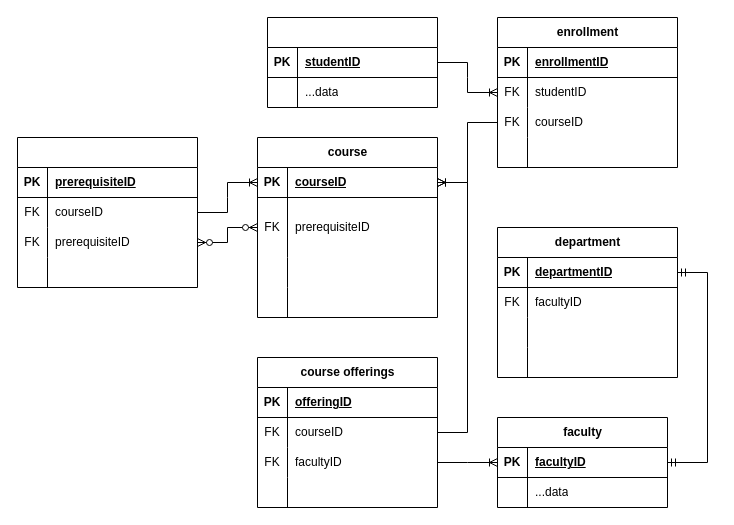
The diagram is 734 pixels wide and 525 high, and some of its shapes have lost their labels. Each missing label, with the box of its shape:
prerequisites: (16, 136, 198, 288)
students: (266, 16, 438, 108)
